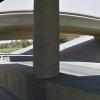Bridge: (3, 5, 100, 54)
